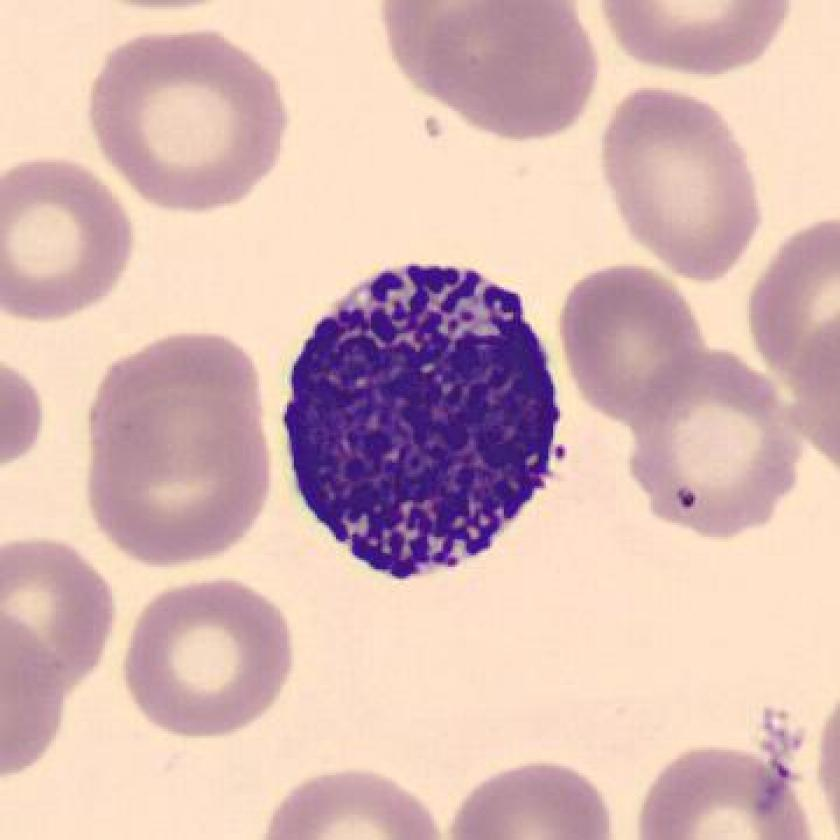basophil: (275, 251, 568, 589)
